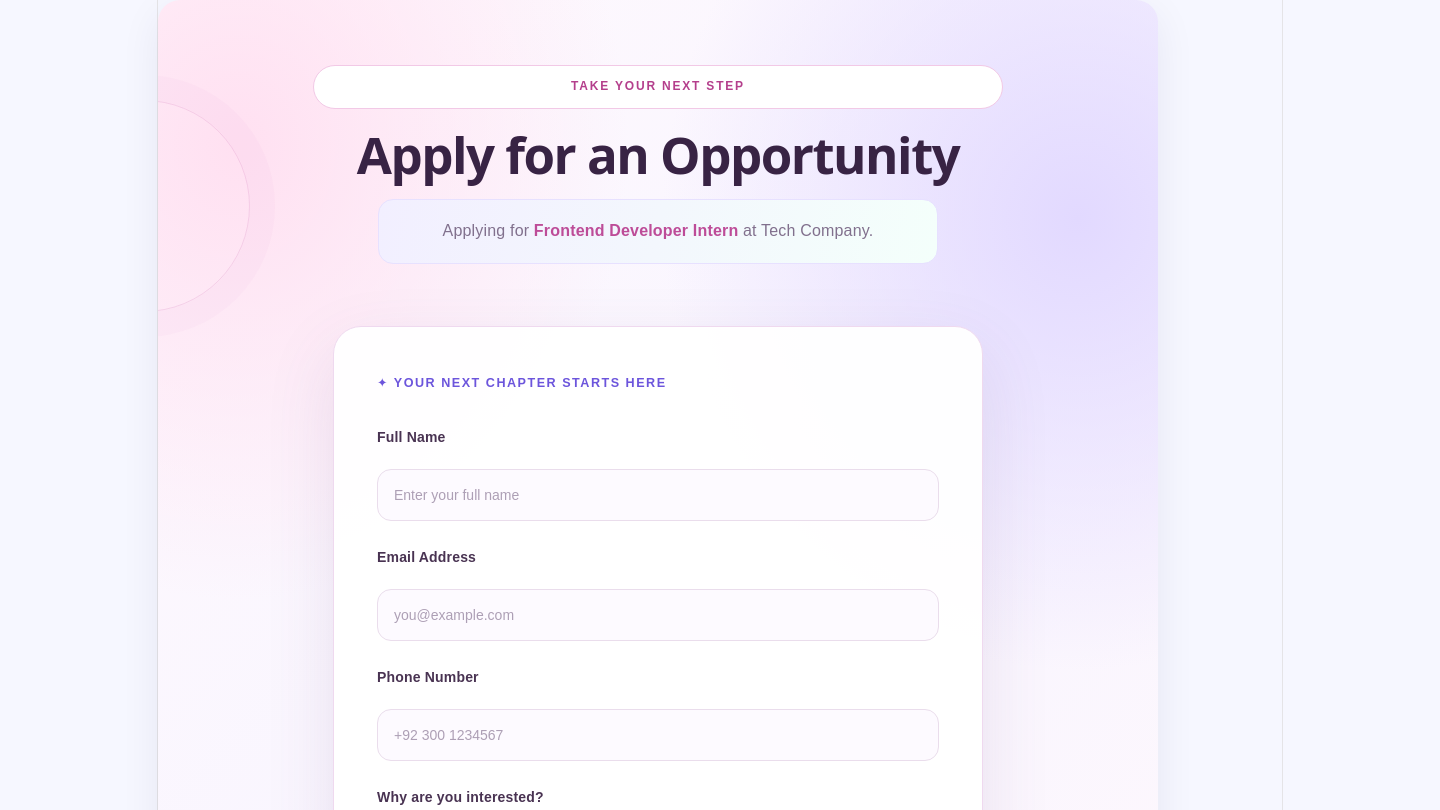
Test: Apply Form Validation › rejects an invalid email address
Type "Test User" into the field labelled "Full Name" at (658, 495), box top-left (377, 469), bottom-right (939, 521)
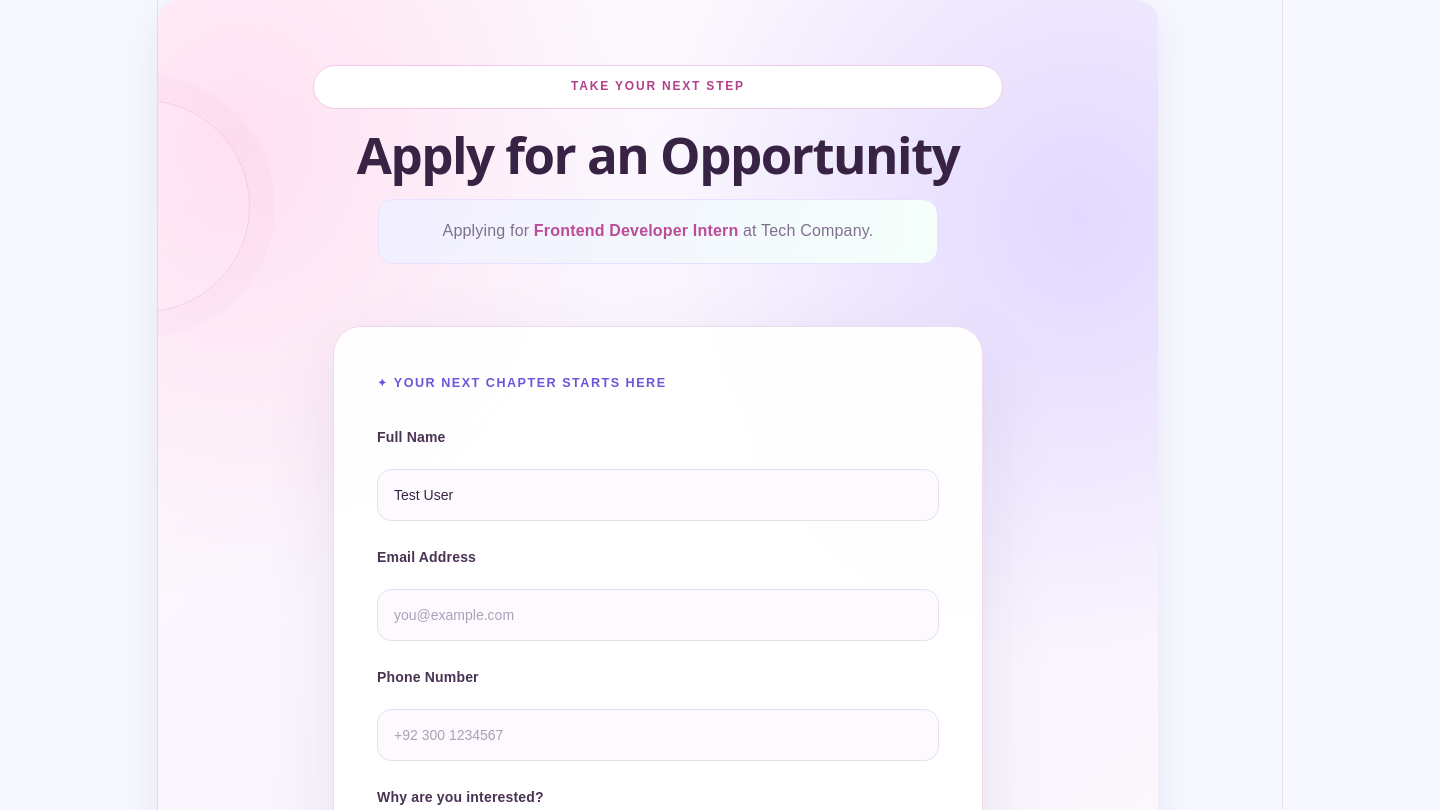
Type "invalid-email" into the field labelled "Email Address" at (658, 615), box top-left (377, 589), bottom-right (939, 641)
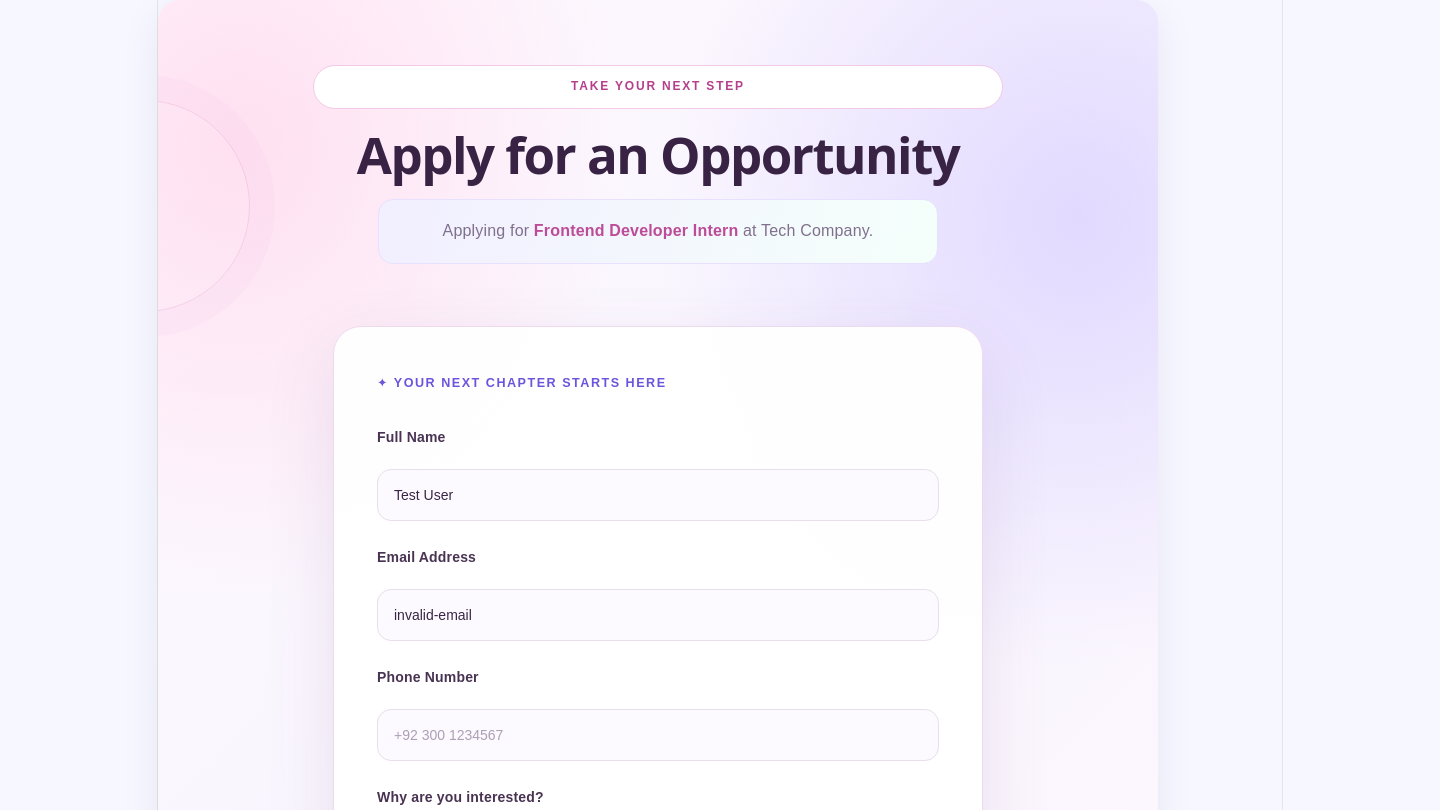
Type "+923001234567" into the field labelled "Phone Number" at (658, 735), box top-left (377, 709), bottom-right (939, 761)
(page scrolled)
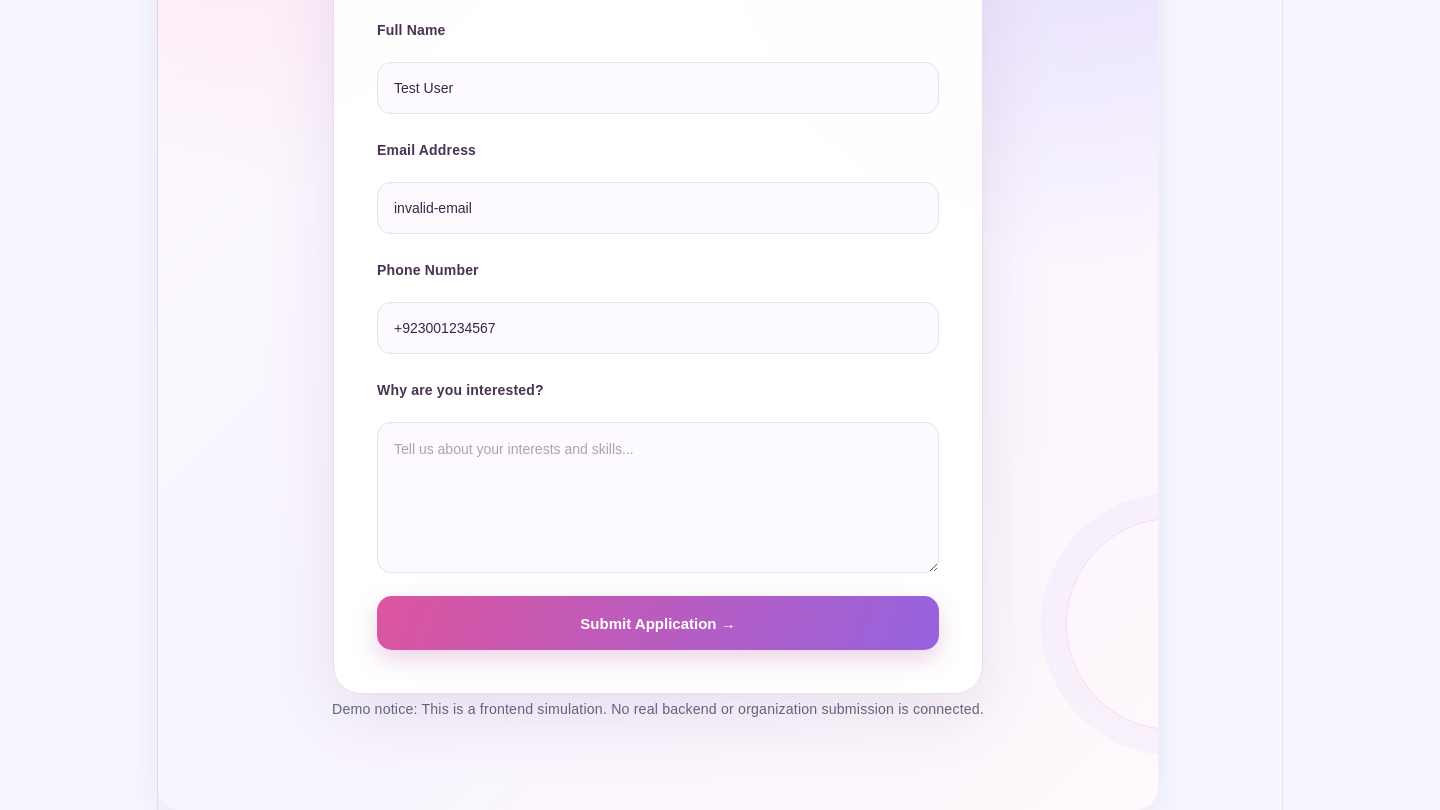
Type "I want to learn new skills." into the text box labelled "Why are you interested?" at (658, 498), box top-left (377, 422), bottom-right (939, 573)
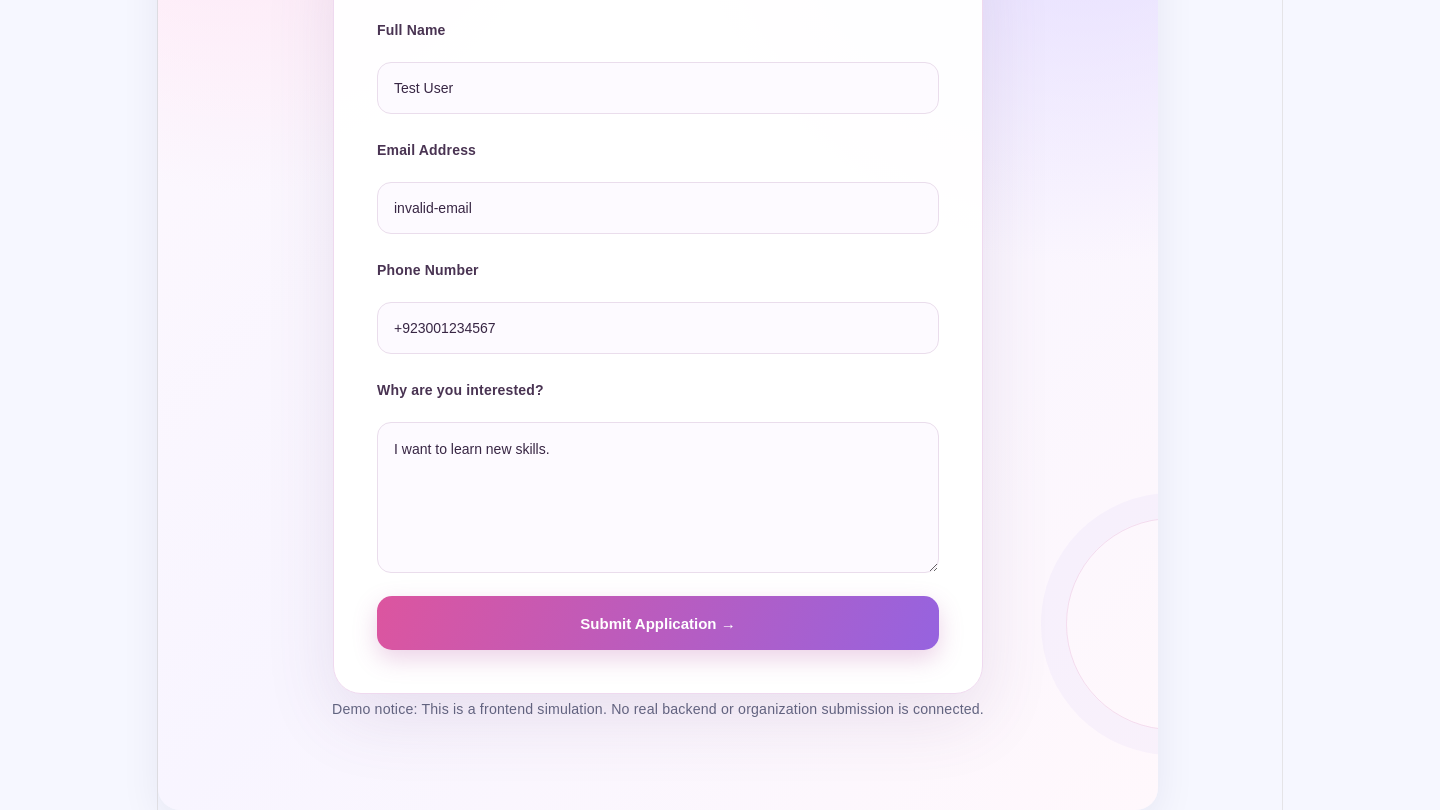
Click the button "Submit Application →" at (658, 623), box top-left (377, 596), bottom-right (939, 650)
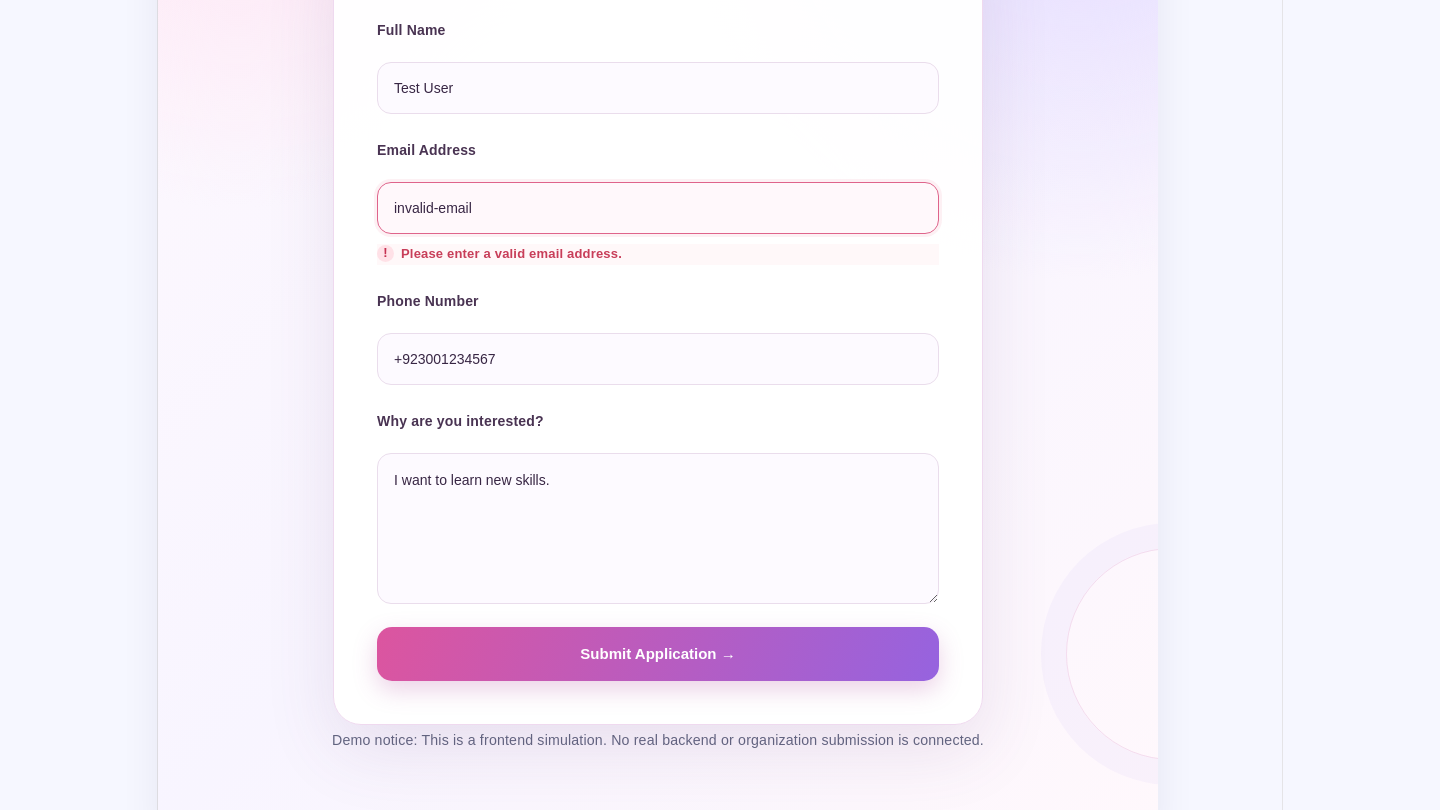
Check: the text "Please enter a valid email address." is shown, box top-left (377, 244), bottom-right (939, 265)
